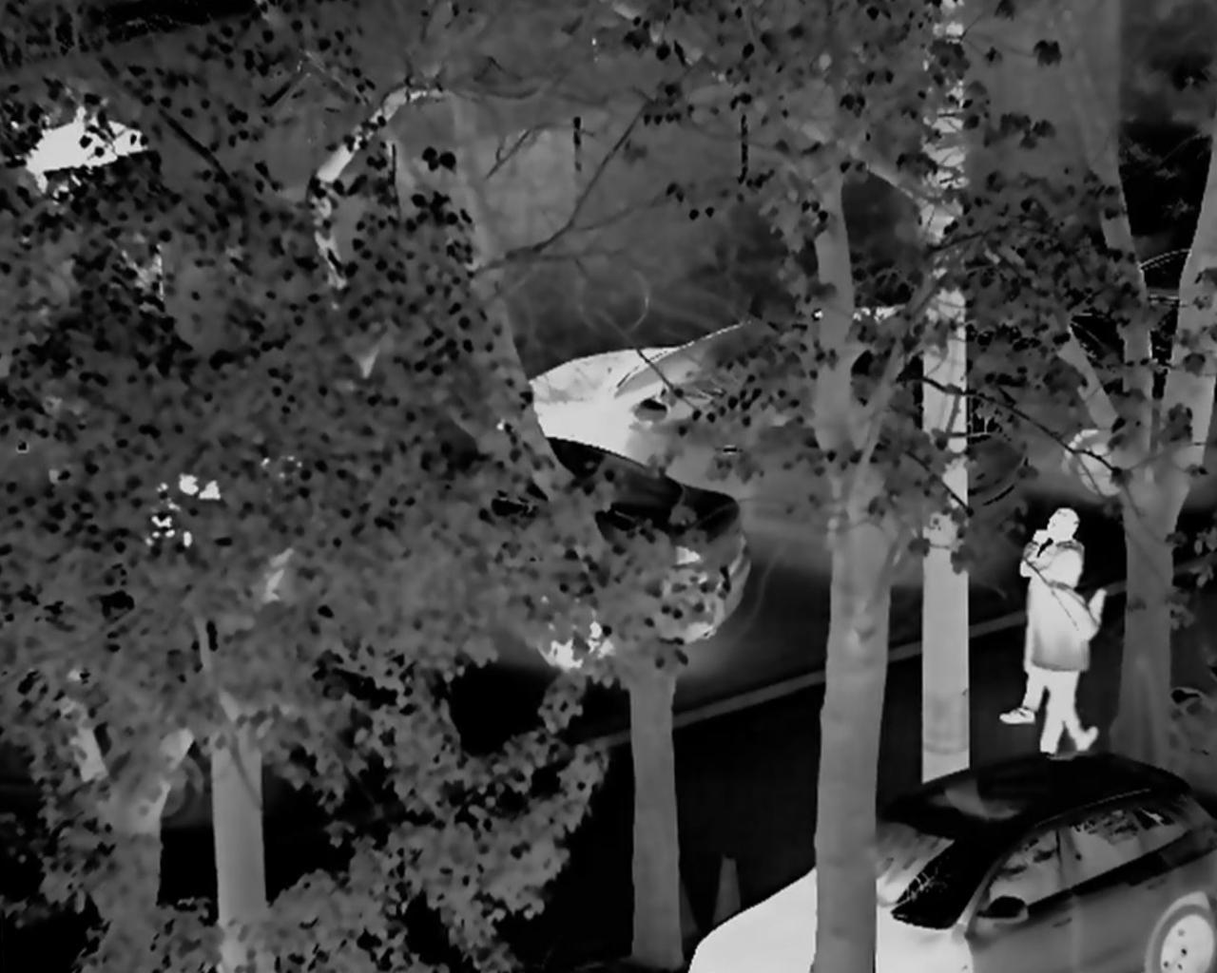person: (1000, 503, 1088, 731), (1036, 555, 1109, 762)
